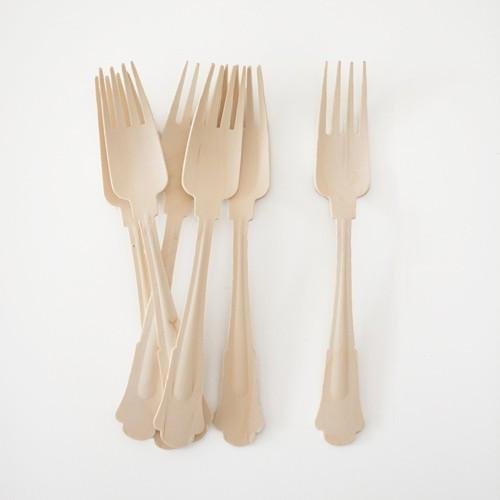Wooden Utensils: (71, 43, 408, 459)
